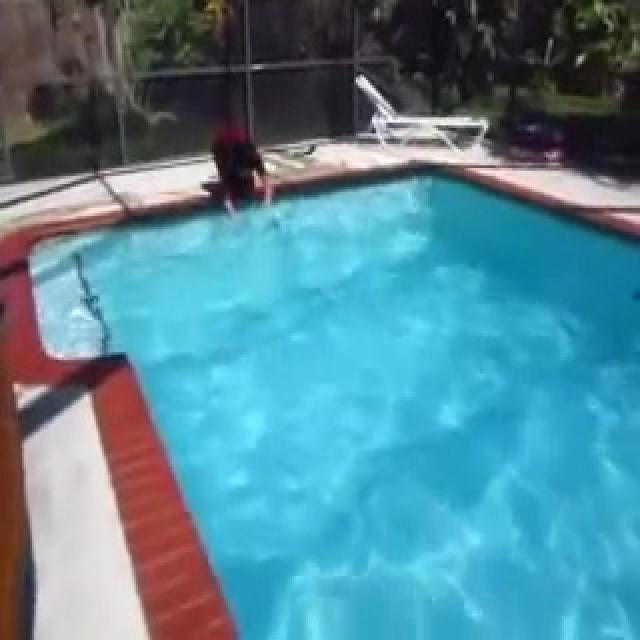out of water: (198, 122, 279, 220)
